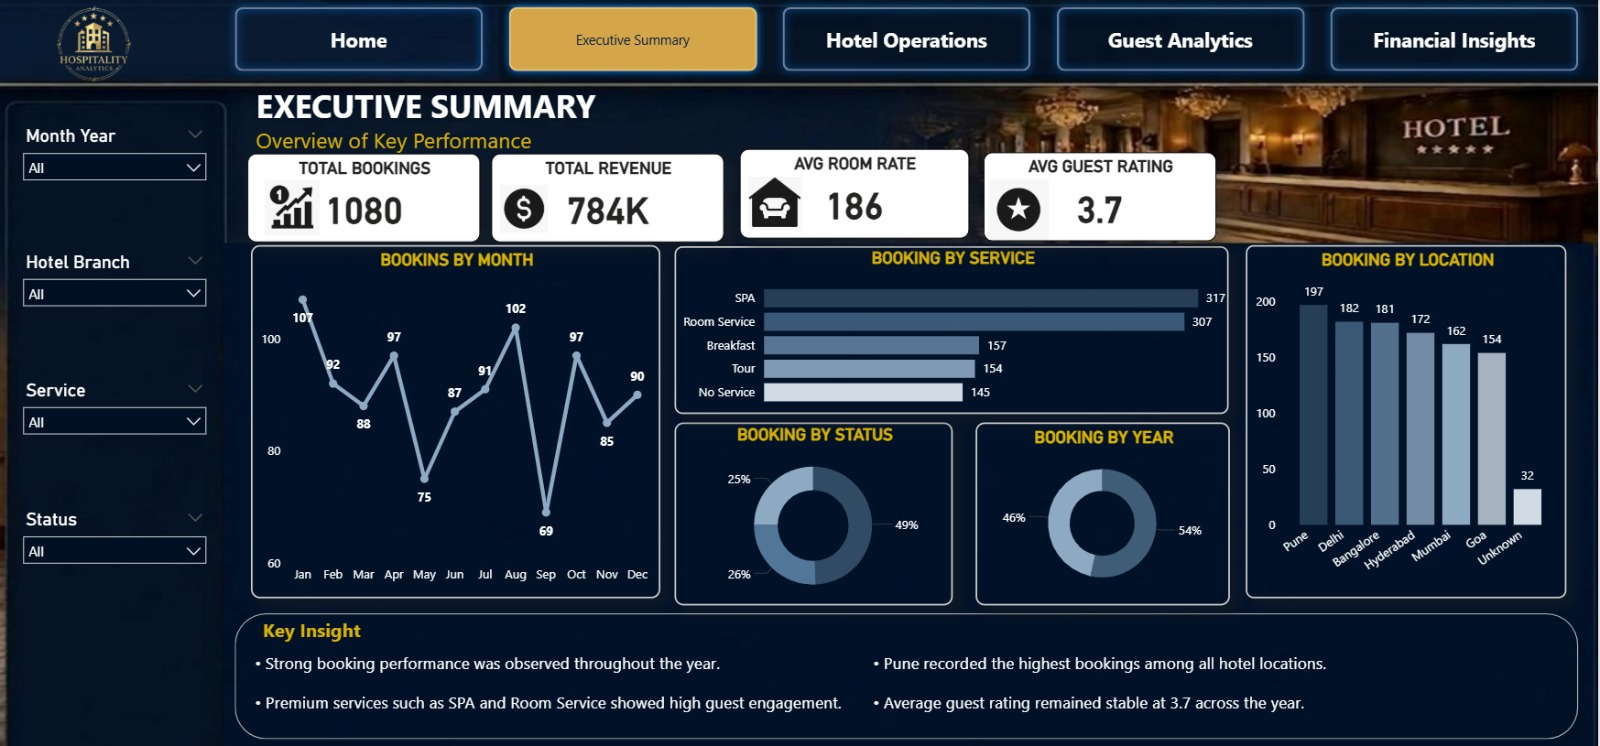

What the dashboard file says about the page in this screenshot:
{"tool":"powerbi","page":{"name":"Executive Summary","canvas":[1600,750],"ordinal":1},"visuals":[{"type":"image","box":[21.8,0,146.6,90.5],"z":0},{"type":"card","title":"AVG GUEST RATING","fields":{"Values":["Avg(hospitality_final_dataset3.Guest rating)"]},"box":[984.6,153.1,232.9,88.9],"z":0,"group":"g5"},{"type":"shape","box":[227.2,605.5,1362,144],"z":0,"group":"g3"},{"type":"textbox","box":[251.7,80.6,374.5,58.3],"z":1000},{"type":"image","box":[985.2,172.2,70.6,74.8],"z":1000,"group":"g5"},{"type":"textbox","box":[259.3,613.3,158.1,35.3],"z":1000,"group":"g3"},{"type":"textbox","box":[251.7,121.5,348.5,47.1],"z":2000},{"type":"card","title":"AVG ROOM RATE","fields":{"Values":["Avg(hospitality_final_dataset3.Room Rate)"]},"box":[741,149.6,229.4,89.3],"z":2500,"group":"g4"},{"type":"card","title":"TOTAL BOOKINGS","fields":{"Values":["CountNonNull(hospitality_final_dataset3.Booking id)"]},"box":[248,155,232.9,88.9],"z":2500,"group":"g1"},{"type":"pageNavigator","box":[227.6,0,1361.7,80],"z":3000},{"type":"image","box":[744.7,167,63.2,74.4],"z":3000,"group":"g4"},{"type":"group","id":"g1","title":"Group 1","box":[248,155,233.1,89.3],"z":4000},{"type":"group","id":"g2","title":"Group 2","box":[492.3,155,233.1,90.5],"z":5000},{"type":"image","box":[260.7,174.8,64.9,69.2],"z":5000,"group":"g1"},{"type":"lineChart","title":" BOOKINS BY MONTH","fields":{"Category":["hospitality_final_dataset3.Month"],"Y":["CountNonNull(hospitality_final_dataset3.Booking id)"]},"box":[251.7,246.8,409.2,353.4],"z":6000},{"type":"card","title":"TOTAL REVENUE ","fields":{"Values":["Sum(hospitality_final_dataset3.Total revenue)"]},"box":[492.3,155,232.9,88.9],"z":7000,"group":"g2"},{"type":"donutChart","title":"BOOKING BY STATUS","fields":{"Y":["CountNonNull(hospitality_final_dataset3.Booking id)"],"Category":["hospitality_final_dataset3.Status"]},"box":[676.1,423.4,278.1,183.5],"z":7000},{"type":"clusteredBarChart","title":"BOOKING BY SERVICE","fields":{"Category":["hospitality.Service used"],"Y":["CountNonNull(hospitality_final_dataset3.Booking id)"]},"box":[676.1,247,554.7,168],"z":8000},{"type":"group","id":"g3","title":"Group 6","box":[227.2,605.5,1362,144],"z":9000},{"type":"donutChart","title":"BOOKING BY YEAR","fields":{"Y":["CountNonNull(hospitality_final_dataset3.Booking id)"],"Category":["hospitality_final_dataset3.Year"]},"box":[976.7,423.4,254.1,183.5],"z":10000},{"type":"image","box":[492.3,181.8,64.9,57.9],"z":10003,"group":"g2"},{"type":"columnChart","title":" BOOKING BY LOCATION","fields":{"Category":["hospitality.Hotel Branch"],"Y":["CountNonNull(hospitality_final_dataset3.Booking id)"]},"box":[1247.5,246.8,321.2,353.4],"z":11000},{"type":"group","id":"g4","title":"Group 3","box":[741,149.6,228.7,91.7],"z":12000},{"type":"group","id":"g5","title":"Group 4","box":[984.6,153.1,232.9,93.9],"z":13000},{"type":"slicer","fields":{"Values":["hospitality.Month Year"]},"box":[14.1,121.4,203.2,77.6],"z":14000},{"type":"slicer","fields":{"Values":["hospitality.Hotel Branch"]},"box":[14.1,247,203.2,77.6],"z":15000},{"type":"slicer","fields":{"Values":["hospitality.Status"]},"box":[14.1,505.3,203.2,77.6],"z":16000},{"type":"slicer","fields":{"Values":["hospitality.Service used"]},"box":[14.1,375.4,203.2,77.6],"z":17000},{"type":"textbox","box":[251.2,647.9,604.1,87.5],"z":18000},{"type":"textbox","box":[869.4,647.9,700.1,87.5],"z":19000}]}

Visuals, with their boxes in screenshot pixels (x1, y1, x2, y2), scaled from the page's 1600x750 canvas onto the 1600x746 screenshot:
image: <bbox>22, 0, 168, 90</bbox>
"AVG GUEST RATING" card: <bbox>985, 152, 1218, 241</bbox>
shape: <bbox>227, 602, 1589, 745</bbox>
textbox: <bbox>252, 80, 626, 138</bbox>
image: <bbox>985, 171, 1056, 246</bbox>
textbox: <bbox>259, 610, 417, 645</bbox>
textbox: <bbox>252, 121, 600, 168</bbox>
"AVG ROOM RATE" card: <bbox>741, 149, 970, 238</bbox>
"TOTAL BOOKINGS" card: <bbox>248, 154, 481, 243</bbox>
pageNavigator: <bbox>228, 0, 1589, 80</bbox>
image: <bbox>745, 166, 808, 240</bbox>
"Group 1" group: <bbox>248, 154, 481, 243</bbox>
"Group 2" group: <bbox>492, 154, 725, 244</bbox>
image: <bbox>261, 174, 326, 243</bbox>
" BOOKINS BY MONTH" lineChart: <bbox>252, 245, 661, 597</bbox>
"TOTAL REVENUE " card: <bbox>492, 154, 725, 243</bbox>
"BOOKING BY STATUS" donutChart: <bbox>676, 421, 954, 604</bbox>
"BOOKING BY SERVICE" clusteredBarChart: <bbox>676, 246, 1231, 413</bbox>
"Group 6" group: <bbox>227, 602, 1589, 745</bbox>
"BOOKING BY YEAR" donutChart: <bbox>977, 421, 1231, 604</bbox>
image: <bbox>492, 181, 557, 238</bbox>
" BOOKING BY LOCATION" columnChart: <bbox>1248, 245, 1569, 597</bbox>
"Group 3" group: <bbox>741, 149, 970, 240</bbox>
"Group 4" group: <bbox>985, 152, 1218, 246</bbox>
slicer - hospitality.Month Year: <bbox>14, 121, 217, 198</bbox>
slicer - hospitality.Hotel Branch: <bbox>14, 246, 217, 323</bbox>
slicer - hospitality.Status: <bbox>14, 503, 217, 580</bbox>
slicer - hospitality.Service used: <bbox>14, 373, 217, 451</bbox>
textbox: <bbox>251, 644, 855, 731</bbox>
textbox: <bbox>869, 644, 1570, 731</bbox>
